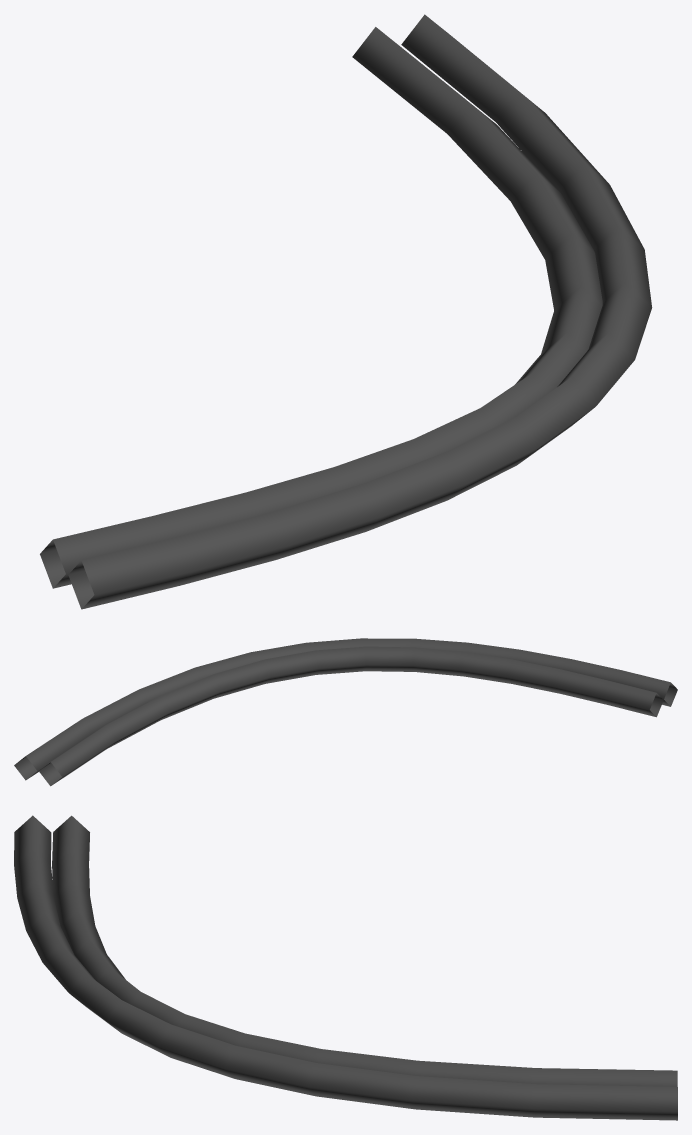
File: Mod_Cable_Turn.fbx
3 renders of one model, top to bottom at view 1: azimuth 30°, elevation 25°; view 2: azimuth 150°, elevation 25°; view 3: azimuth 270°, elevation 25°, orthographic. The views are drawn at different scales.
Parts seen in each view (by area): view 1: Mod_Cable_Turn; view 2: Mod_Cable_Turn; view 3: Mod_Cable_Turn.
Boxes of the visible parts, bbox=[...] form: Mod_Cable_Turn: bbox=[40, 14, 652, 609]; Mod_Cable_Turn: bbox=[14, 638, 677, 786]; Mod_Cable_Turn: bbox=[14, 815, 677, 1120].
Size of the model in its own units: 107 by 6 by 108.
